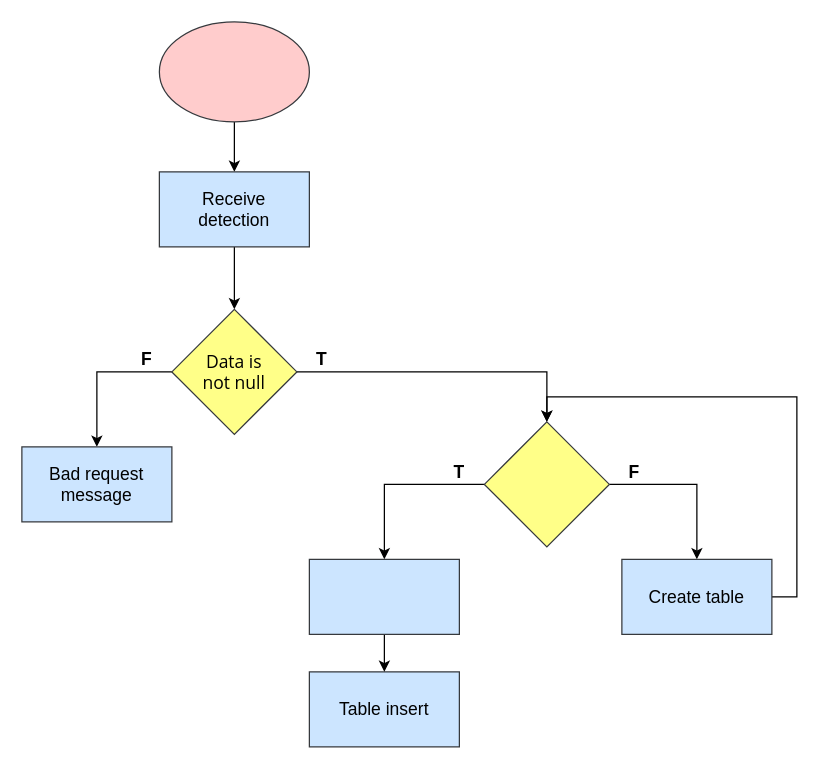
This 829x769 diagram has some shape labels left out. Each missing label, with the centre of its shape:
"Create table object" goes at (383,596).
"START" goes at (233,71).
"Table exists" goes at (546,484).
